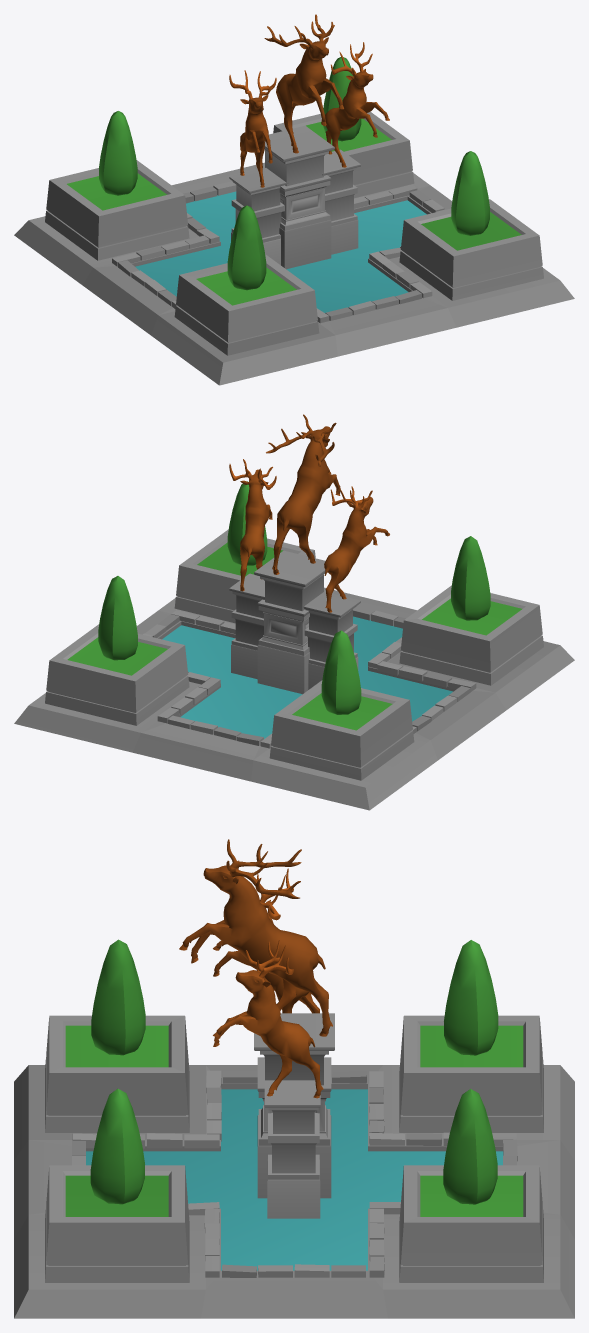
The model's file is TownCenter2Age.glb.
3 renders of one model, top to bottom at view 1: azimuth 30°, elevation 25°; view 2: azimuth 150°, elevation 25°; view 3: azimuth 270°, elevation 25°, orthographic. The views are drawn at different scales.
Parts seen in each view (by area): view 1: TownCenter_SecondAge_Level3; view 2: TownCenter_SecondAge_Level3; view 3: TownCenter_SecondAge_Level3.
Boxes of the visible parts, x1,y1,x2,y2 form: TownCenter_SecondAge_Level3: [14, 14, 574, 385]; TownCenter_SecondAge_Level3: [14, 414, 574, 810]; TownCenter_SecondAge_Level3: [14, 839, 574, 1318].
Bounding box in the file's own units: 5.11 × 3.52 × 5.11.
Materials: 1 (1 with a texture image).
